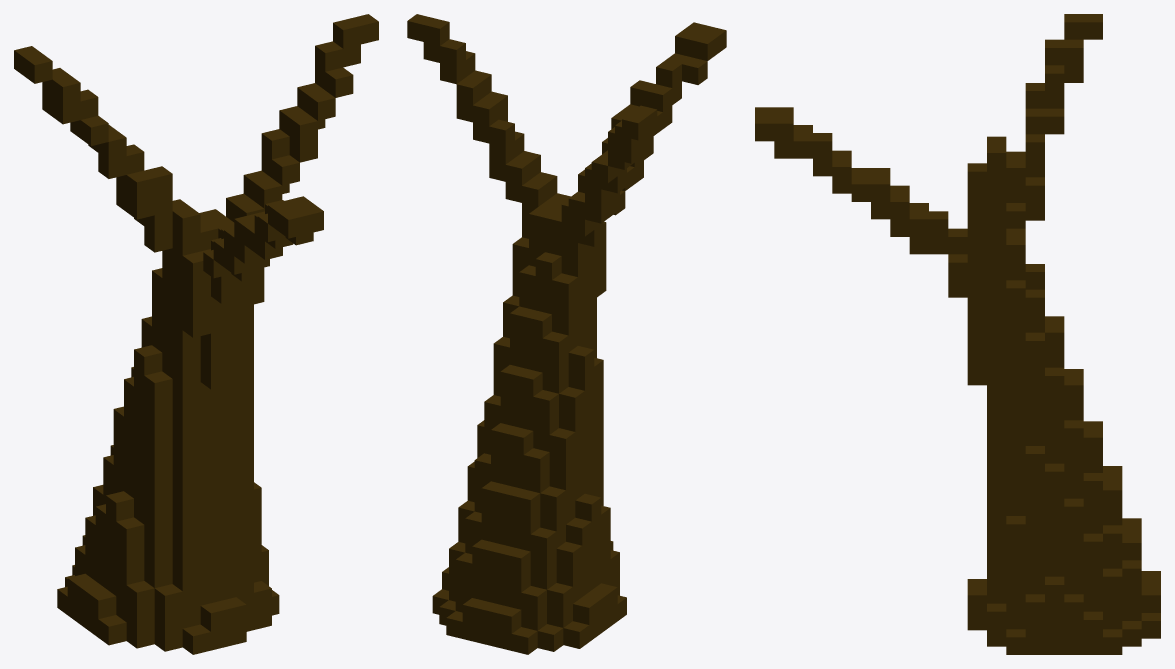
File: DeadTree2-0-0.obj
The picture shows the model from 3 angles, left to right: view 1: azimuth 30°, elevation 25°; view 2: azimuth 150°, elevation 25°; view 3: azimuth 270°, elevation 25°; orthographic projection. The views are drawn at different scales.
Visible parts, largest first — view 1: 0; view 2: 0; view 3: 0.
Part boxes in pixels (x1=…): 0: x1=14, y1=14, x2=378, y2=654; 0: x1=407, y1=14, x2=726, y2=654; 0: x1=755, y1=14, x2=1160, y2=654.
Size of the model in its own units: 1.7 by 3.1 by 2.1.
1 material, 1 textured.
